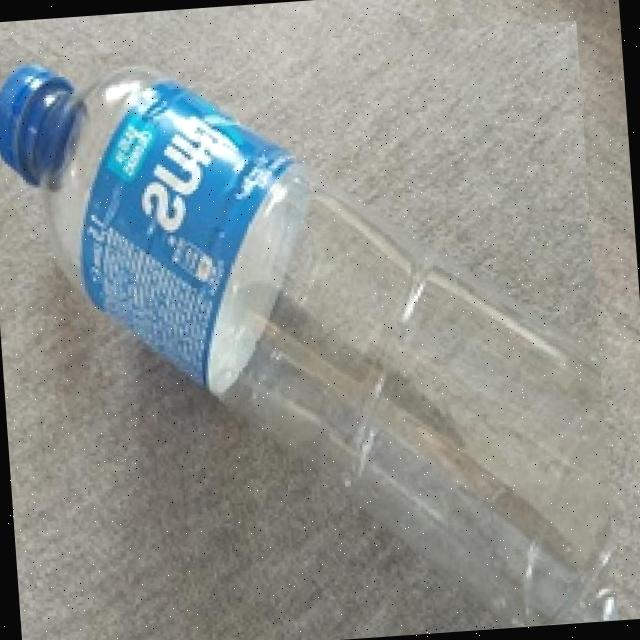bottle: (0, 21, 617, 640)
cap: (0, 64, 68, 160)
label: (54, 76, 324, 408)
